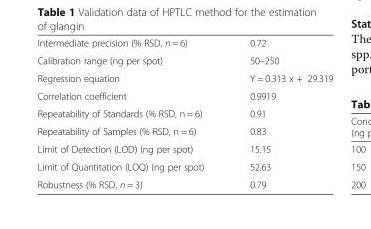table: (36, 36, 332, 189)
table column: (36, 36, 226, 189), (226, 36, 332, 189)
table row: (36, 51, 332, 69), (36, 86, 332, 104), (36, 104, 332, 122), (36, 139, 332, 157), (36, 157, 332, 175), (36, 69, 332, 86), (36, 122, 332, 139), (36, 36, 332, 51), (36, 175, 332, 189)
